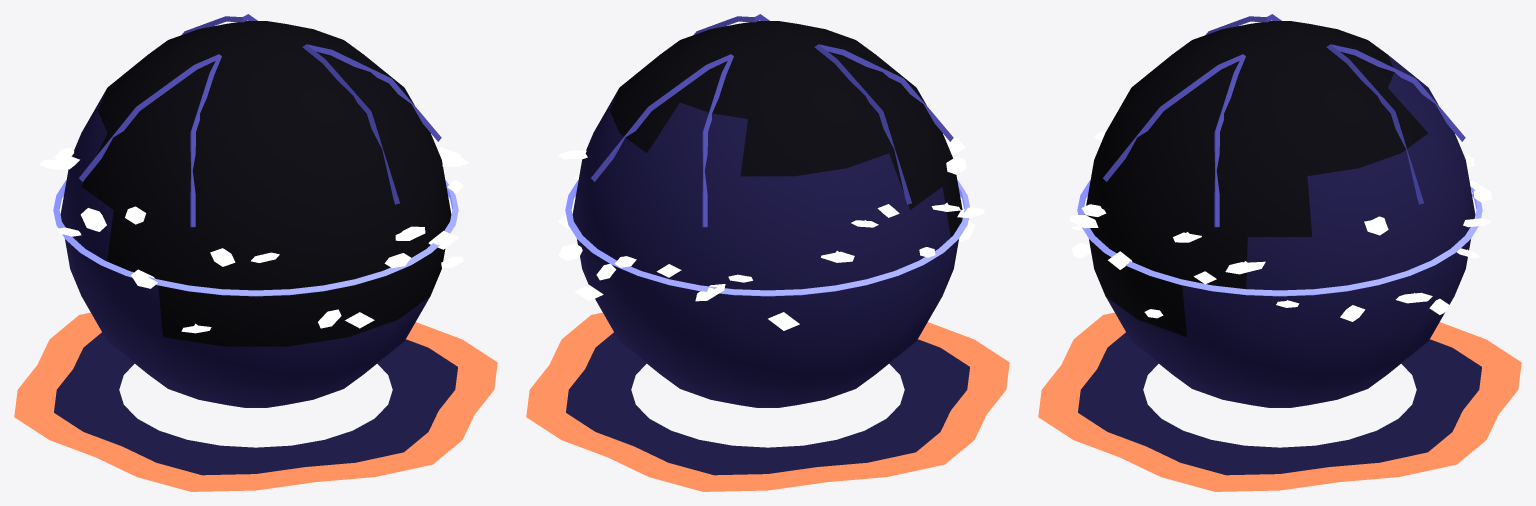
Rendered from cosmic_void.glb.
3 views of the same model, side by side, from view 1: azimuth 30°, elevation 25°; view 2: azimuth 150°, elevation 25°; view 3: azimuth 270°, elevation 25° (orthographic).
Visible parts, largest first — view 1: shell, body; view 2: shell, body; view 3: shell, body.
Boxes of the visible parts, x1,y1,x2,y2 form: shell: [39, 14, 469, 407]; body: [14, 312, 497, 491]; shell: [558, 14, 984, 407]; body: [526, 312, 1009, 491]; shell: [1069, 14, 1491, 407]; body: [1038, 312, 1521, 491].
Bounding box in the file's own units: 203 × 164 × 203.
